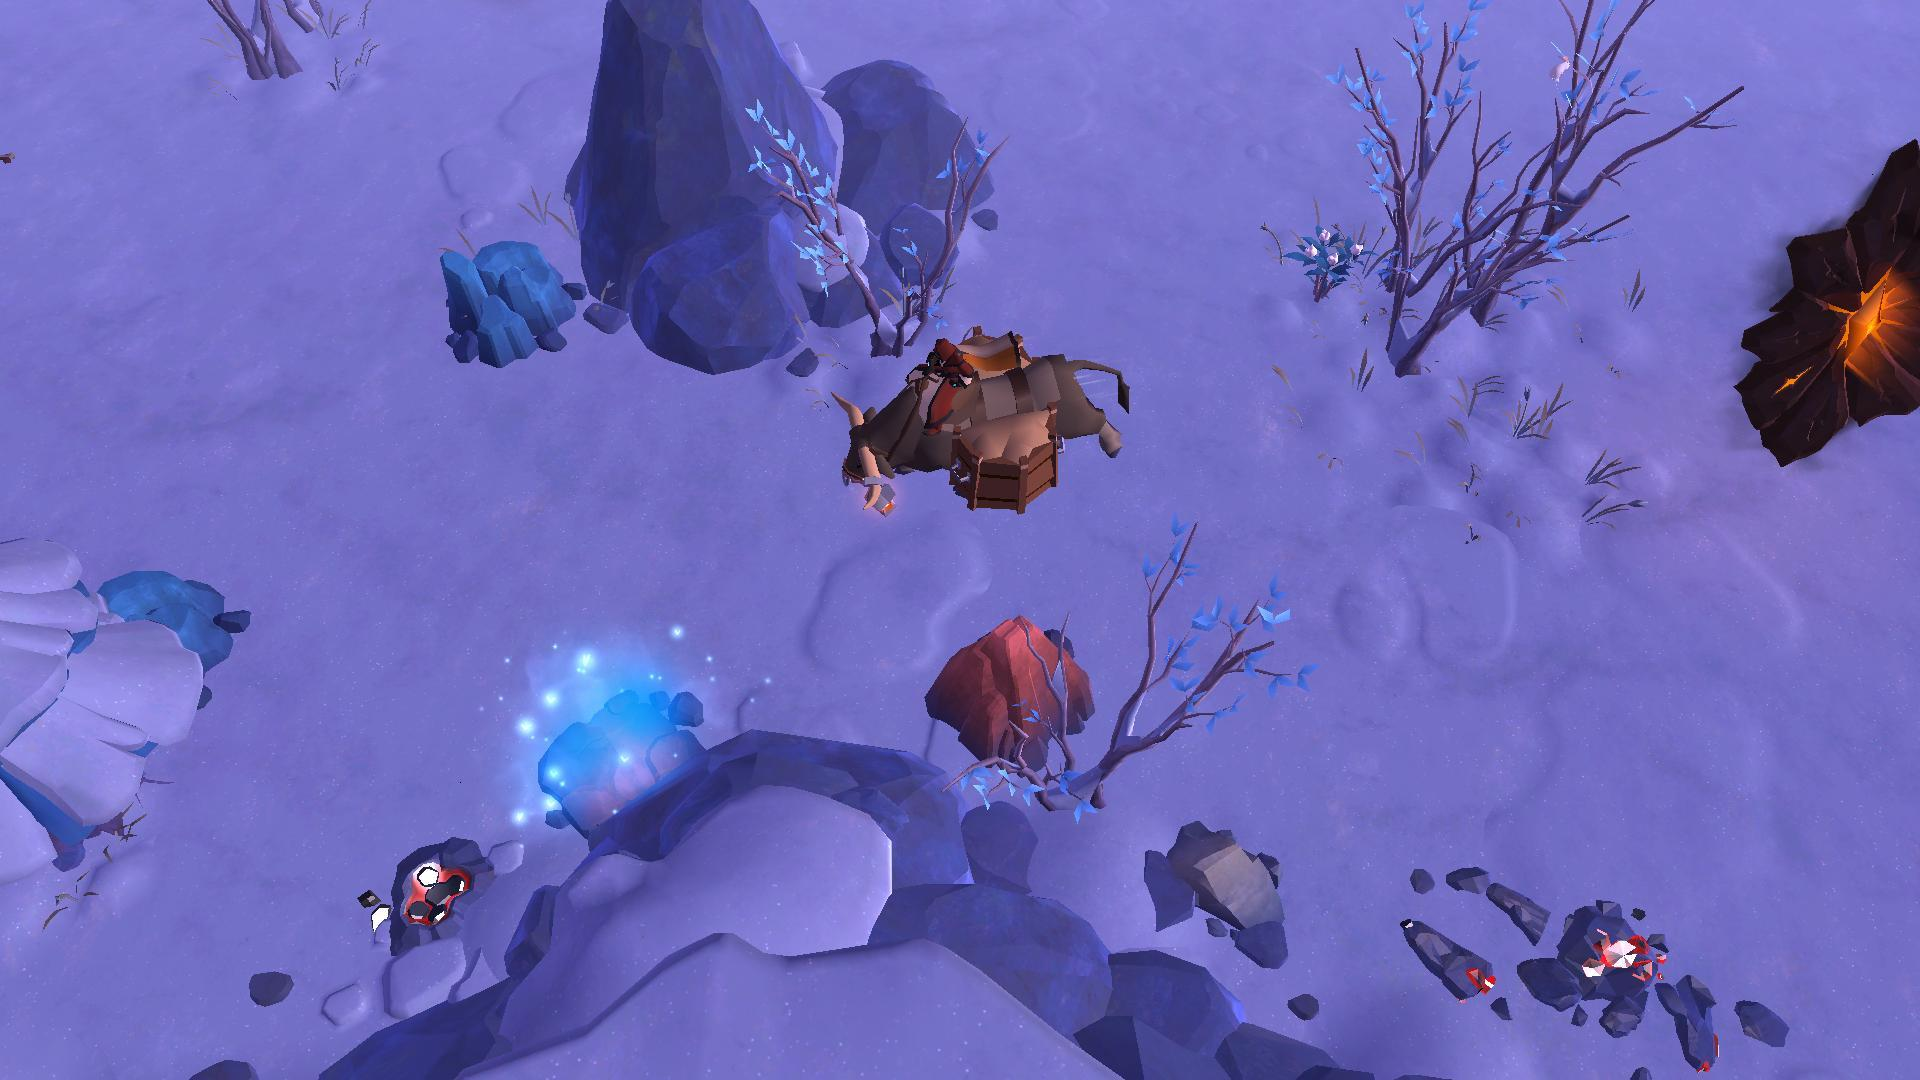fiber_t4: (1294, 222, 1369, 285)
rock_t4: (427, 240, 585, 364)
rock_t5: (923, 609, 1114, 773)
